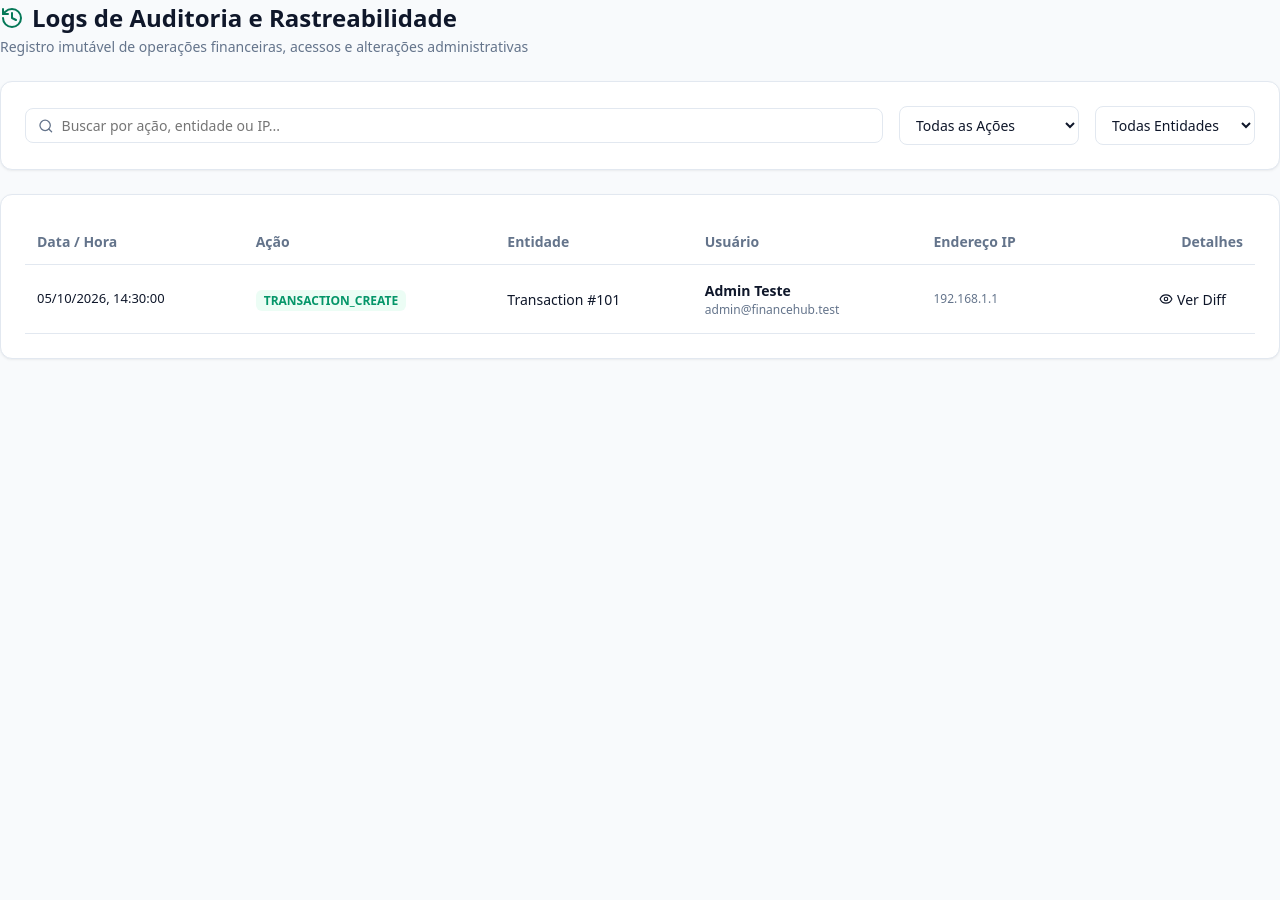
Test: AdminAuditPage Component › opens diff modal when clicking inspect button
The width and height of the screenshot is (1280, 900).
Click the button "Ver Diff" at (1193,299), box [1142,277,1243,321]
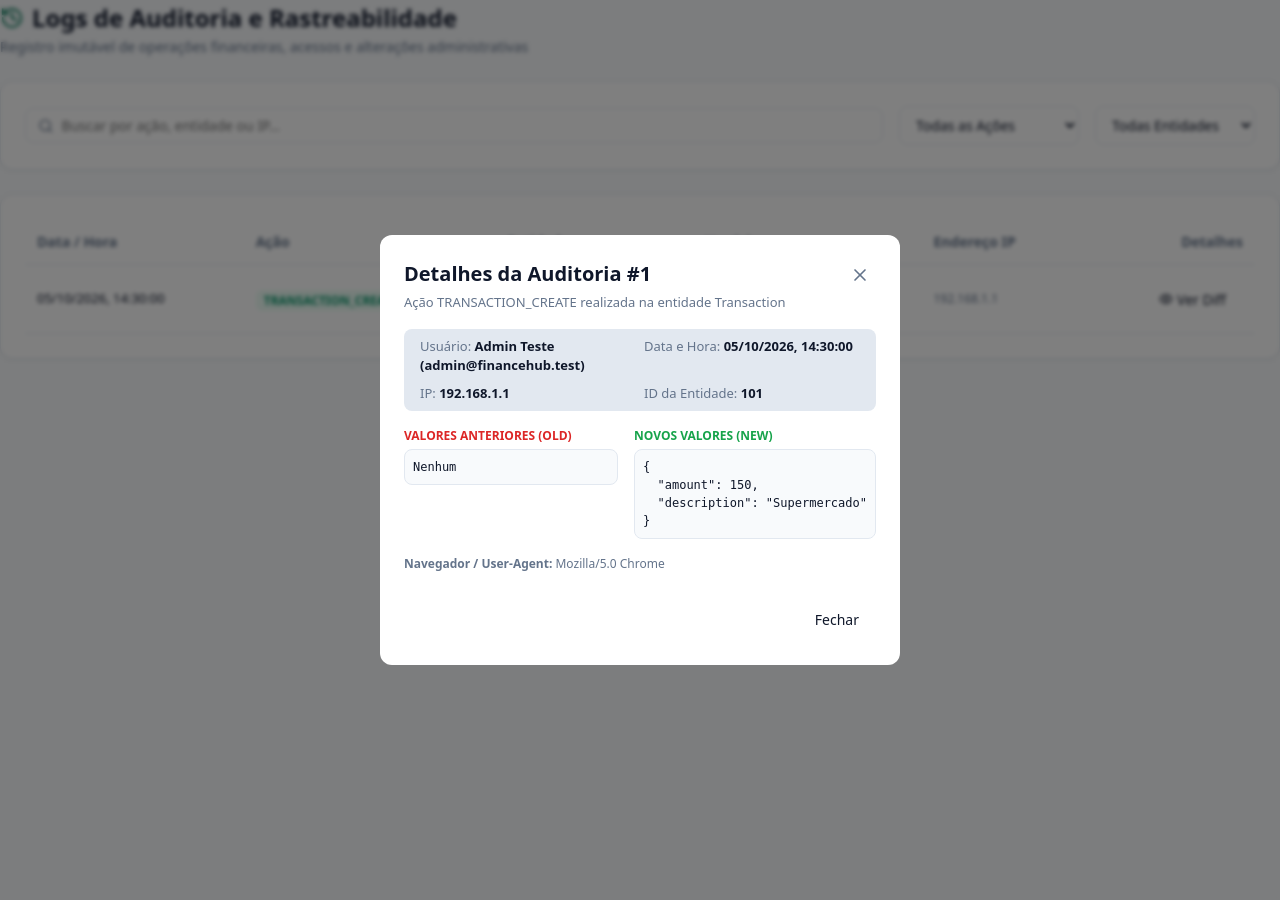
Check: the heading "Detalhes da Auditoria #1" is shown, box [404,260,651,287]
Check: the text "Valores Anteriores (Old)" is shown, box [404,427,572,444]
Check: the text "Novos Valores (New)" is shown, box [634,427,772,444]
